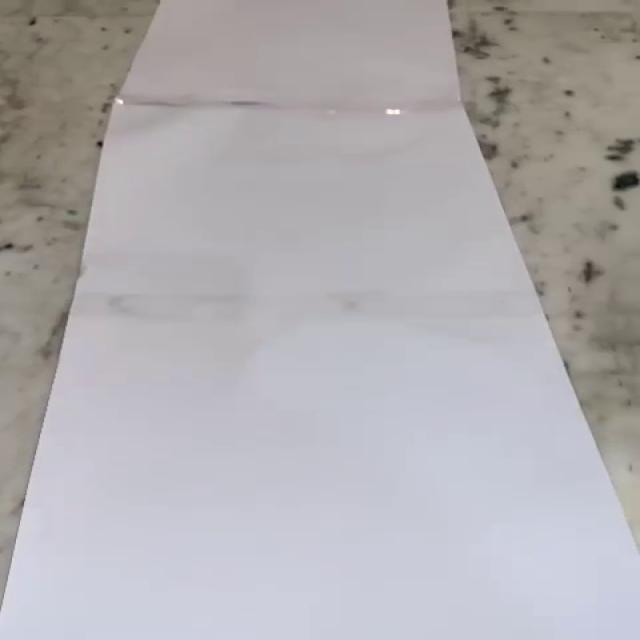road: (3, 0, 637, 640)
